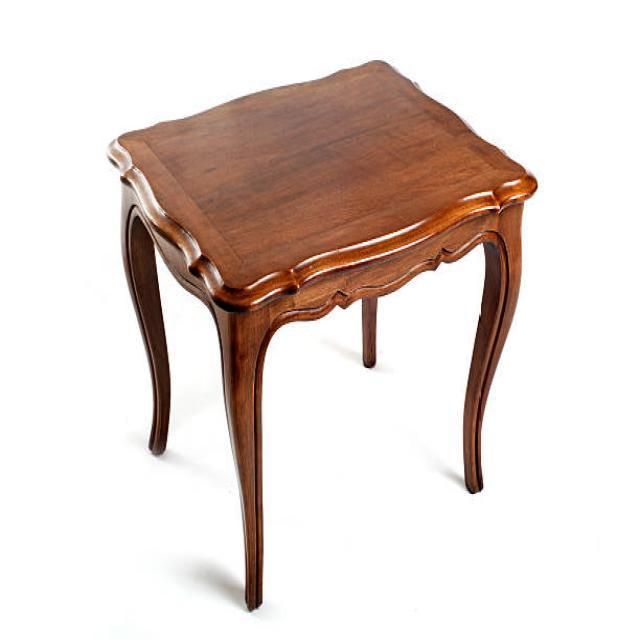table: (105, 58, 538, 612)
